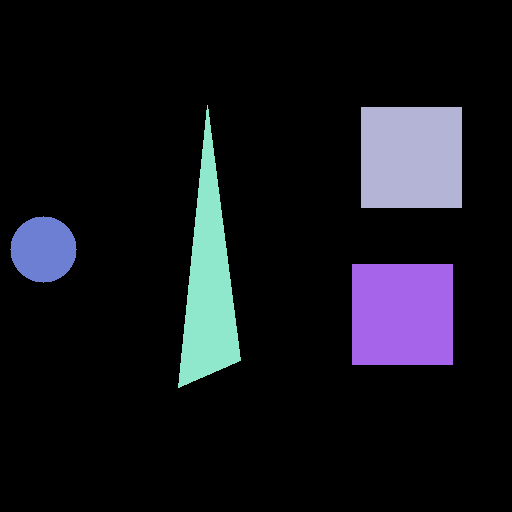circle: (10, 216, 76, 282)
square: (352, 264, 452, 364), (361, 107, 461, 207)
triangle: (178, 105, 240, 387)
